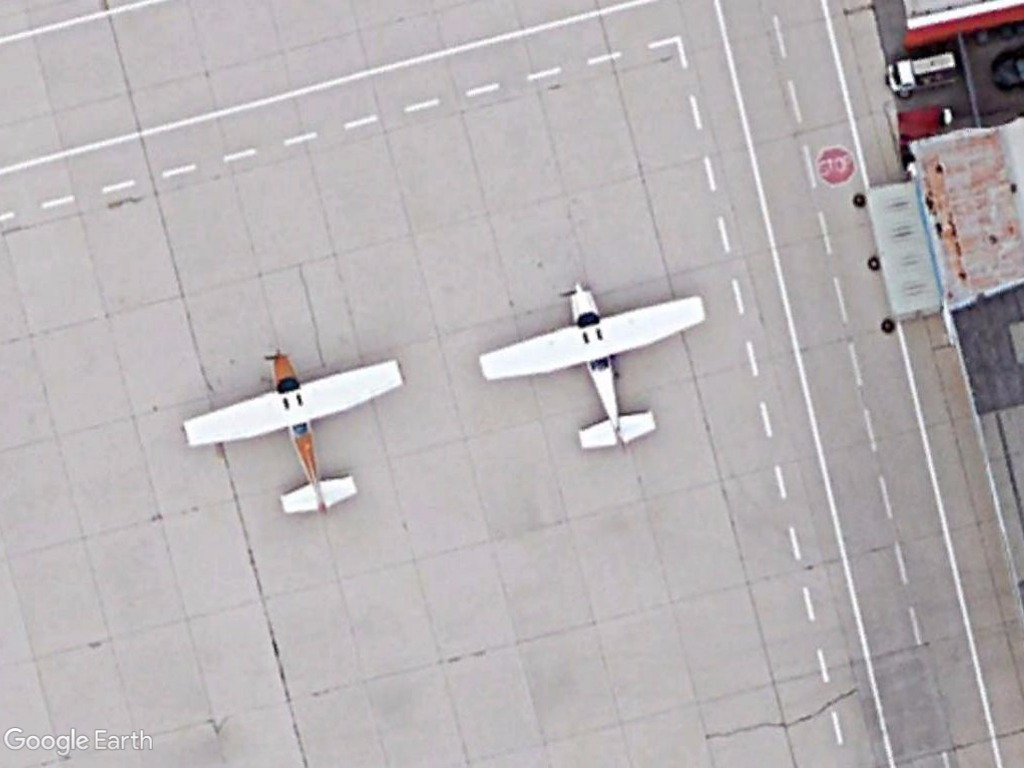trainer: (471, 279, 709, 459), (176, 346, 408, 526)
